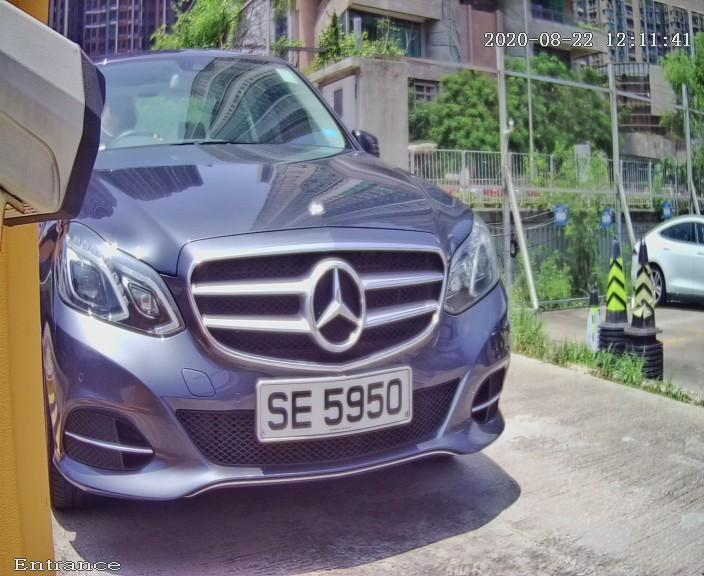Car: (7, 8, 541, 553)
License Plate: (229, 342, 438, 456)
